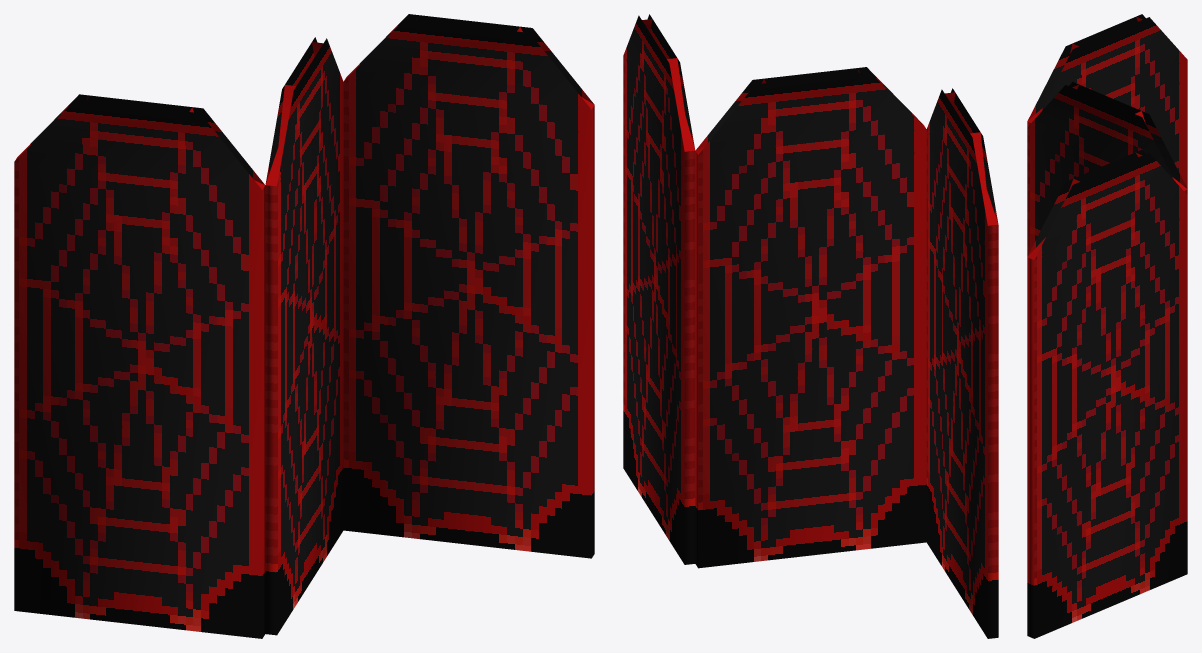
3 renders of one model, left to right at view 1: azimuth 30°, elevation 25°; view 2: azimuth 150°, elevation 25°; view 3: azimuth 270°, elevation 25°, orthographic. The views are drawn at different scales.
Visible parts, largest first — view 1: 3166IMFY04_08; view 2: 3166IMFY04_08; view 3: 3166IMFY04_08.
Boxes of the visible parts, box(x1,y1,x2,y2) form: 3166IMFY04_08: box(14, 14, 594, 638); 3166IMFY04_08: box(623, 14, 998, 638); 3166IMFY04_08: box(1027, 14, 1187, 638).
Bounding box in the file's own units: 1.88 × 1.89 × 0.6279.
Materials: 1 (1 with a texture image).
